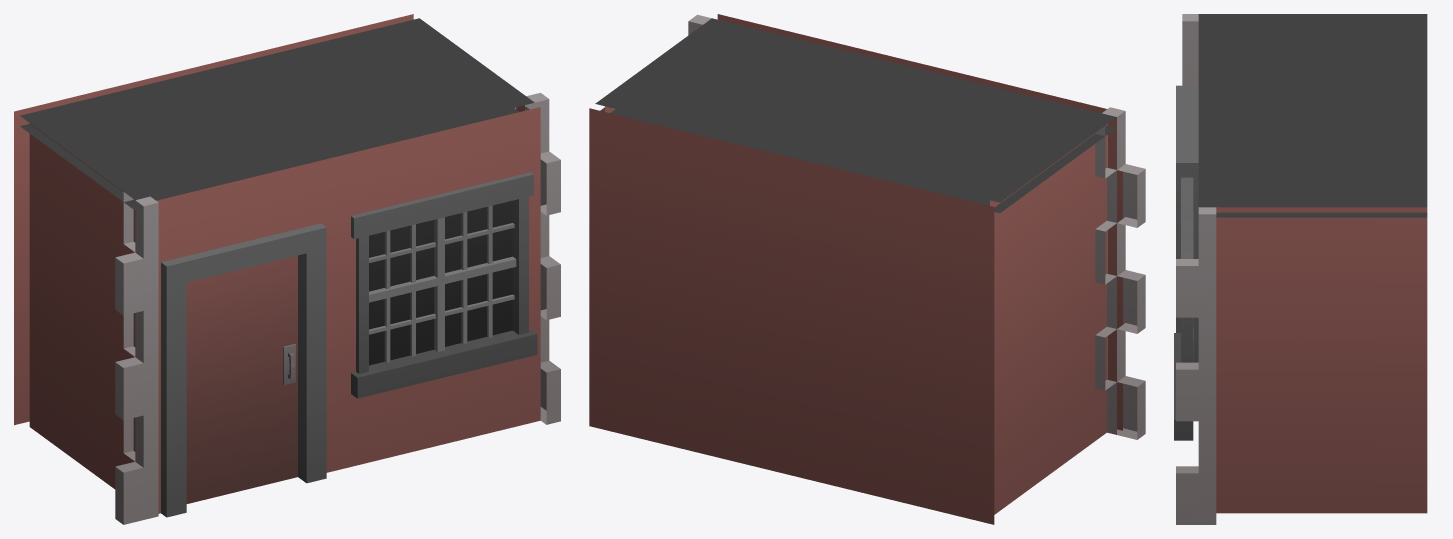
Rendered from utility-office.glb.
3 renders of one model, left to right at view 1: azimuth 30°, elevation 25°; view 2: azimuth 150°, elevation 25°; view 3: azimuth 270°, elevation 25°, orthographic. The views are drawn at different scales.
Parts seen in each view (by area): view 1: Part_03_IndWindowBFull_WindowBFull, Part_01_IndDoorFrameSingle_DoorFrameSingle, Part_06_IndWallFull_WallFull, Part_02_IndDoorSingleRed_DoorSingleRed, Part_08_IndRoofDarkGreyFull_RoofDarkGreyFull, Part_09_IndRoofDarkGreyFull_RoofDarkGreyFull, Part_10_IndCornerTrimBFull_CornerTrimBFull, Part_04_IndWallFull_WallFull, Part_11_IndCornerTrimBFull_CornerTrimBFull, Part_05_IndWallFull_WallFull; view 2: Part_04_IndWallFull_WallFull, Part_05_IndWallFull_WallFull, Part_06_IndWallFull_WallFull, Part_08_IndRoofDarkGreyFull_RoofDarkGreyFull, Part_09_IndRoofDarkGreyFull_RoofDarkGreyFull, Part_10_IndCornerTrimBFull_CornerTrimBFull, Part_01_IndDoorFrameSingle_DoorFrameSingle, Part_03_IndWindowBFull_WindowBFull; view 3: Part_07_IndWallFull_WallFull, Part_09_IndRoofDarkGreyFull_RoofDarkGreyFull, Part_08_IndRoofDarkGreyFull_RoofDarkGreyFull, Part_11_IndCornerTrimBFull_CornerTrimBFull, Part_01_IndDoorFrameSingle_DoorFrameSingle, Part_03_IndWindowBFull_WindowBFull, Part_10_IndCornerTrimBFull_CornerTrimBFull.
Boxes of the visible parts, <box> form: Part_03_IndWindowBFull_WindowBFull: <box>341,107,540,469</box>; Part_01_IndDoorFrameSingle_DoorFrameSingle: <box>156,155,340,517</box>; Part_06_IndWallFull_WallFull: <box>29,123,135,489</box>; Part_02_IndDoorSingleRed_DoorSingleRed: <box>186,255,297,503</box>; Part_08_IndRoofDarkGreyFull_RoofDarkGreyFull: <box>20,67,334,210</box>; Part_09_IndRoofDarkGreyFull_RoofDarkGreyFull: <box>220,18,534,158</box>; Part_10_IndCornerTrimBFull_CornerTrimBFull: <box>115,192,158,524</box>; Part_04_IndWallFull_WallFull: <box>14,63,213,425</box>; Part_11_IndCornerTrimBFull_CornerTrimBFull: <box>506,93,560,424</box>; Part_05_IndWallFull_WallFull: <box>214,14,413,68</box>; Part_04_IndWallFull_WallFull: <box>791,157,994,524</box>; Part_05_IndWallFull_WallFull: <box>589,108,791,475</box>; Part_06_IndWallFull_WallFull: <box>990,125,1106,514</box>; Part_08_IndRoofDarkGreyFull_RoofDarkGreyFull: <box>798,67,1116,213</box>; Part_09_IndRoofDarkGreyFull_RoofDarkGreyFull: <box>595,18,913,159</box>; Part_10_IndCornerTrimBFull_CornerTrimBFull: <box>1095,107,1145,439</box>; Part_01_IndDoorFrameSingle_DoorFrameSingle: <box>920,63,1122,430</box>; Part_03_IndWindowBFull_WindowBFull: <box>717,14,920,68</box>; Part_07_IndWallFull_WallFull: <box>1216,207,1427,513</box>; Part_09_IndRoofDarkGreyFull_RoofDarkGreyFull: <box>1198,110,1427,217</box>; Part_08_IndRoofDarkGreyFull_RoofDarkGreyFull: <box>1198,14,1427,110</box>; Part_11_IndCornerTrimBFull_CornerTrimBFull: <box>1176,207,1216,524</box>; Part_01_IndDoorFrameSingle_DoorFrameSingle: <box>1176,85,1198,362</box>; Part_03_IndWindowBFull_WindowBFull: <box>1174,177,1193,440</box>; Part_10_IndCornerTrimBFull_CornerTrimBFull: <box>1182,14,1198,85</box>.
Bounding box in the file's own units: 4.34 × 3 × 2.32.
Materials: 11 (11 with a texture image).
